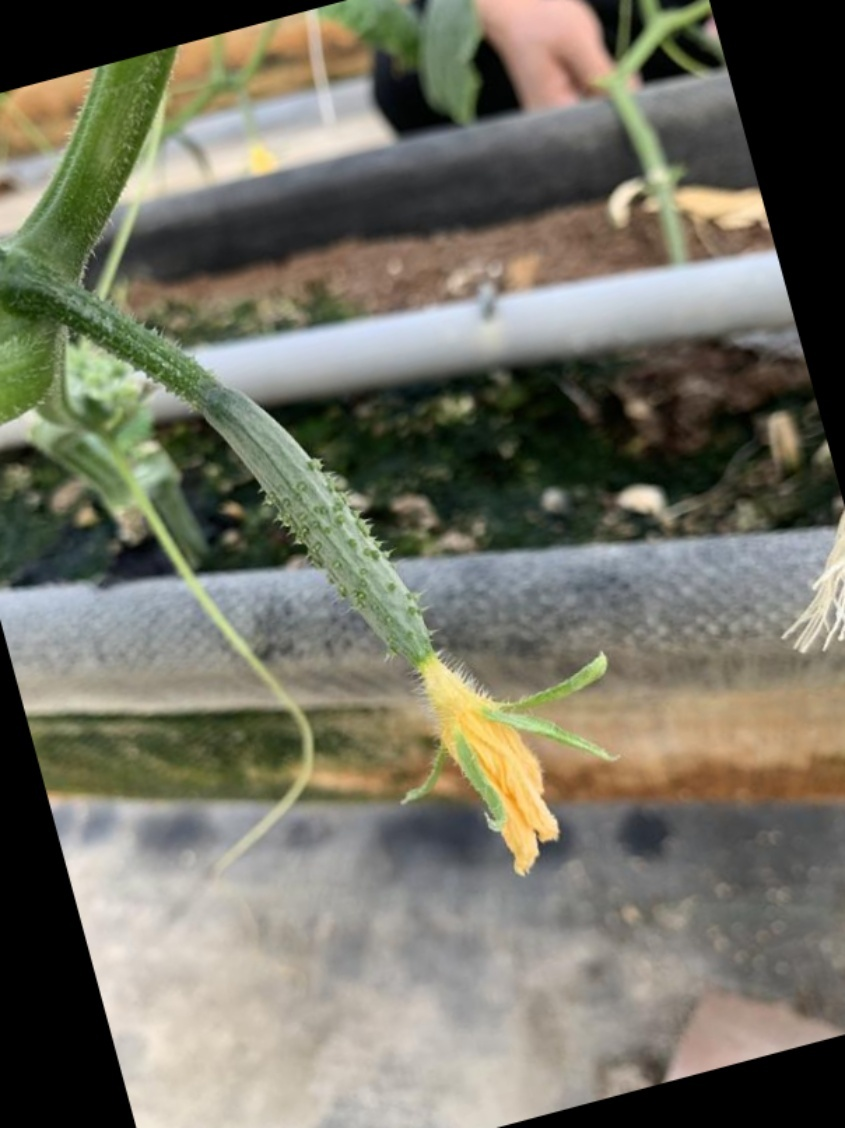bear: (195, 378, 620, 896)
